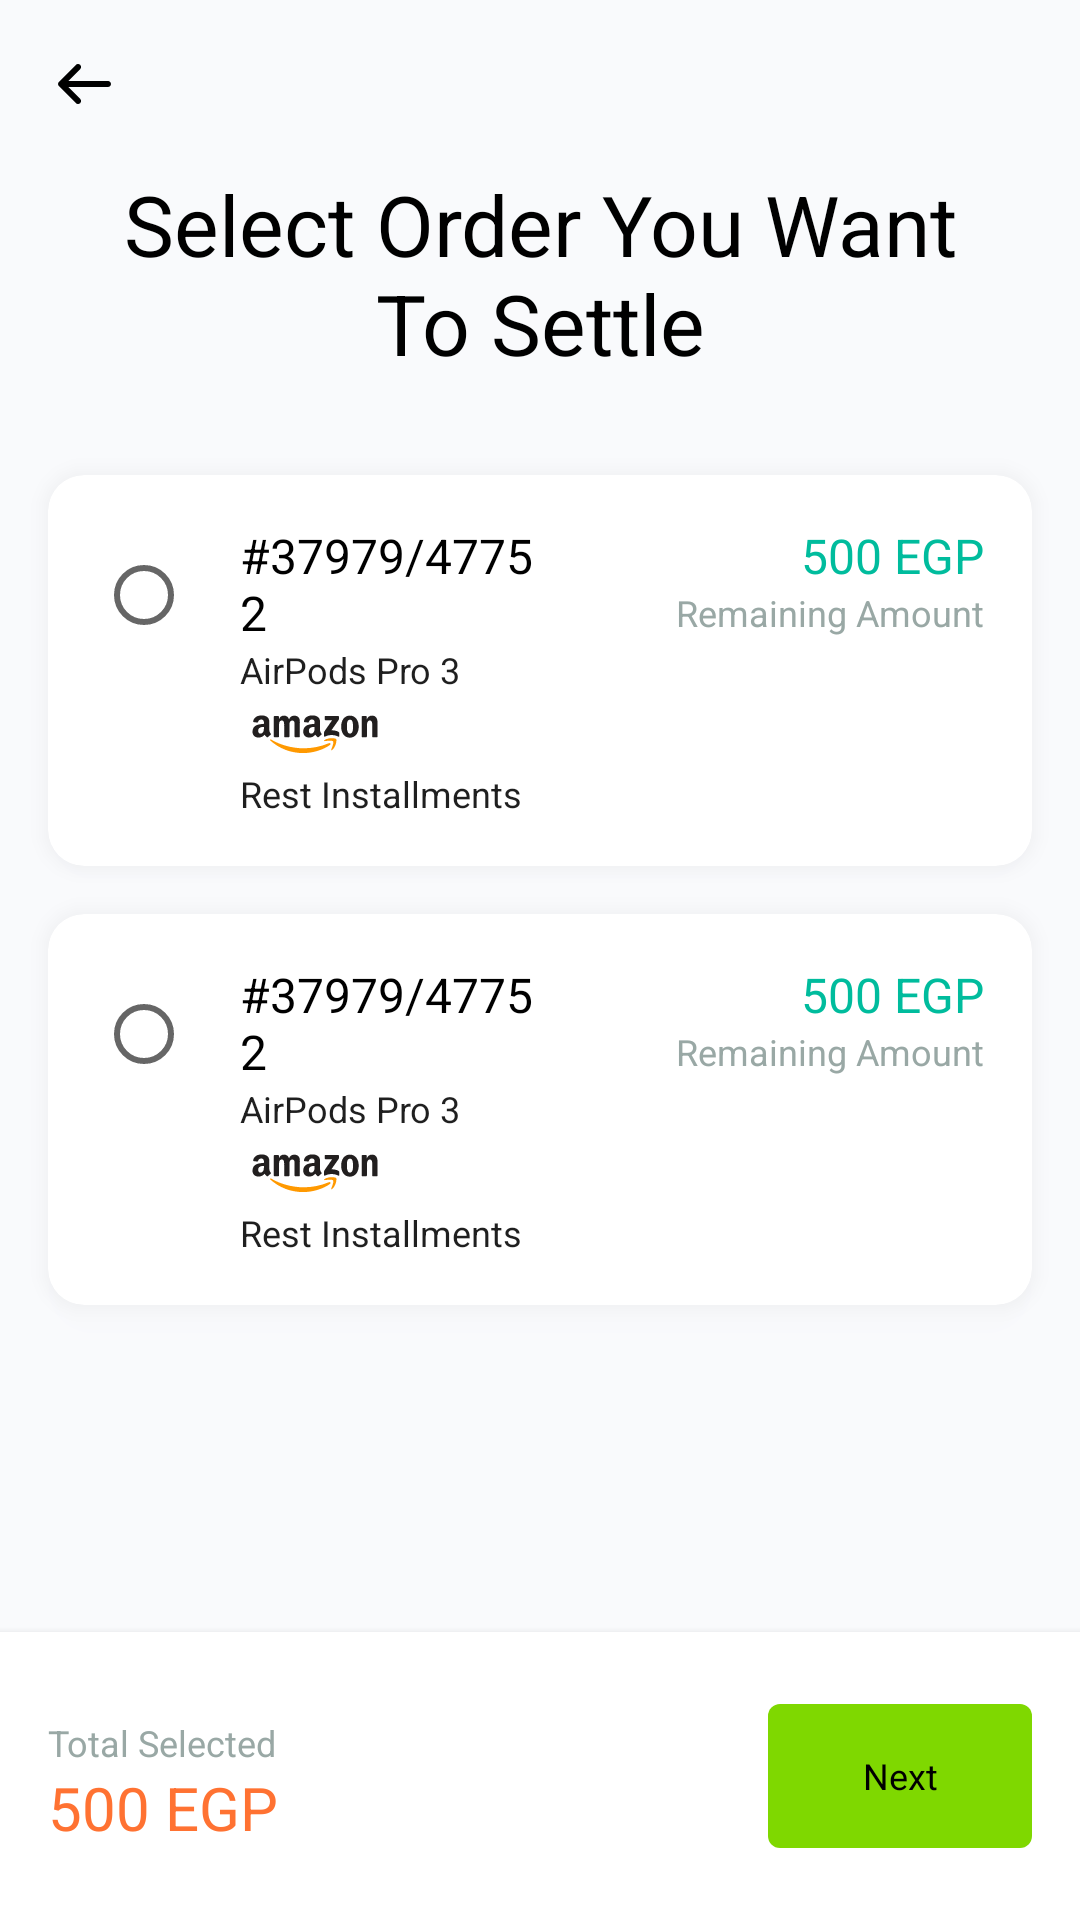

Icons on this 1080px x 1920px Android screen, each with the point to tap as [x,y]:
back: [84,84]
